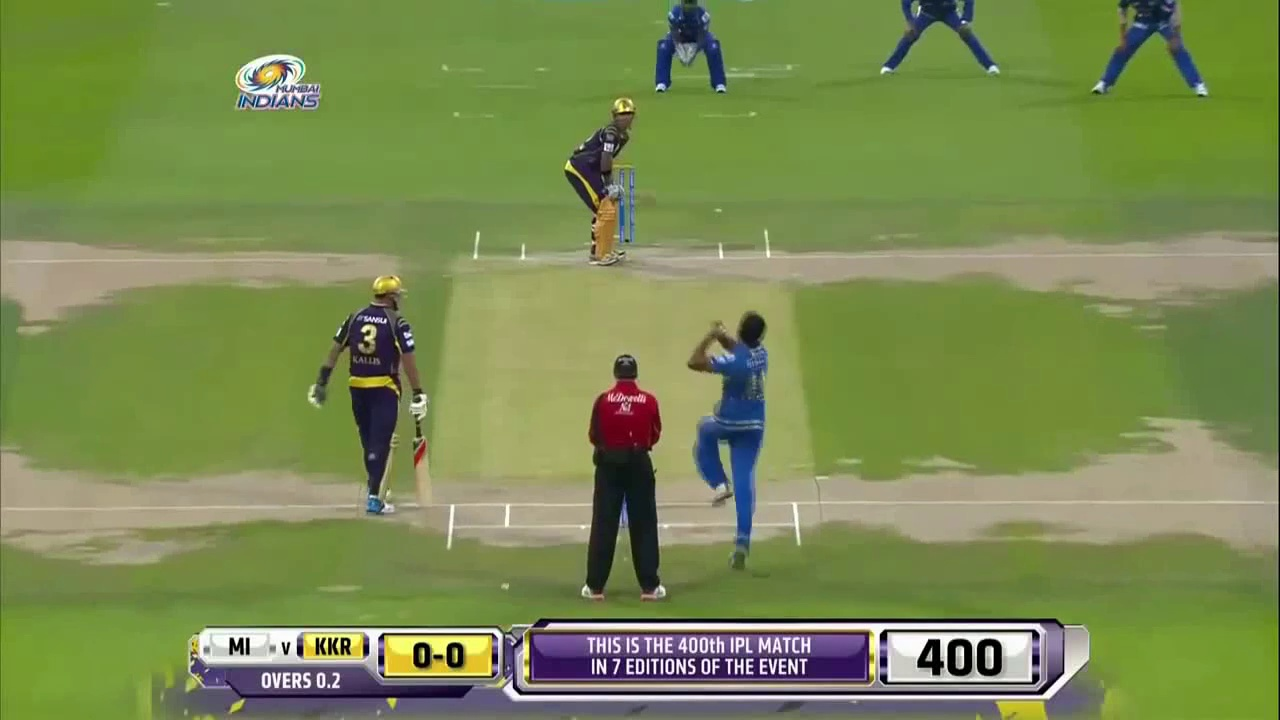bat: (411, 423, 433, 508)
